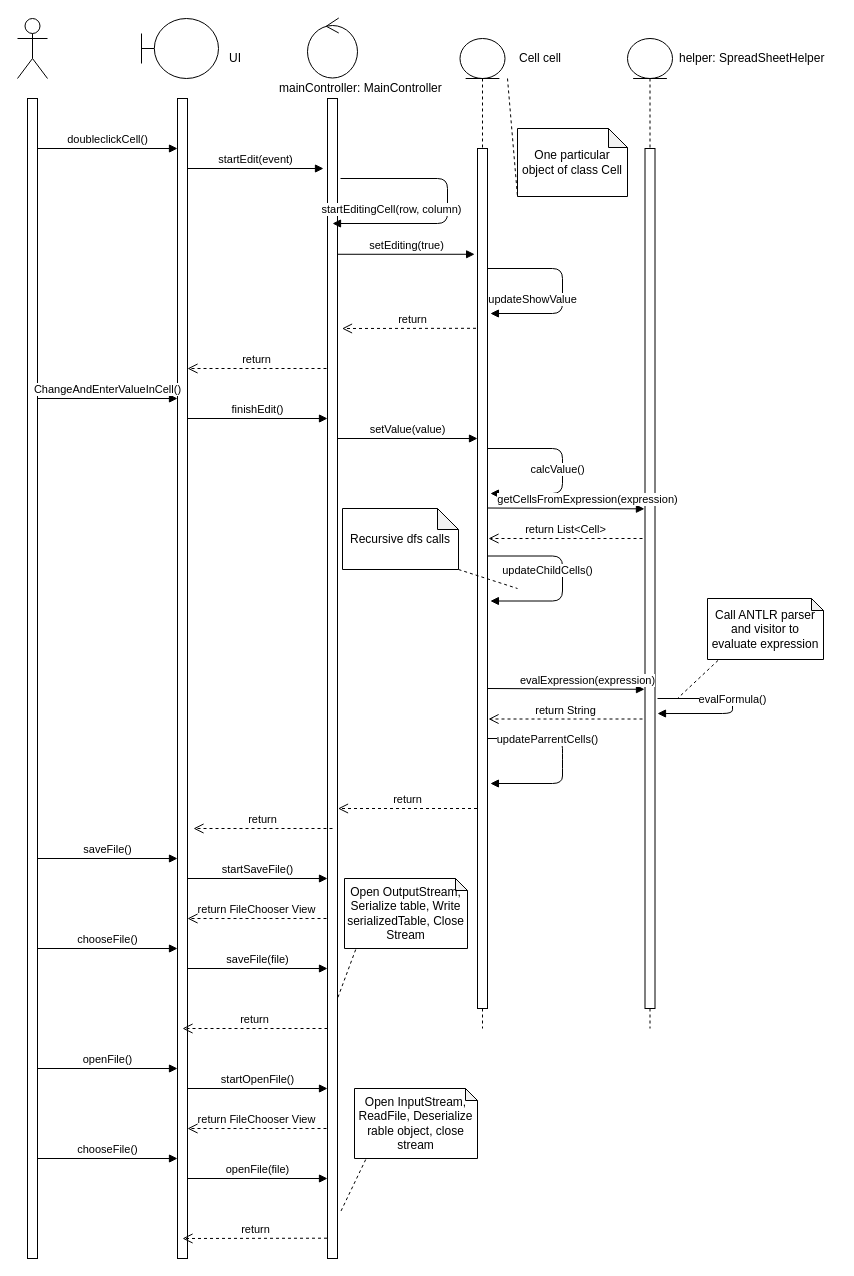
The diagram is 854 pixels wide and 1276 high, and some of its shapes have lost their labels. The shapes that lost their labels are listed below. From the top down, each one's centre as x and y in pixels, then its label:
At (x=32, y=48): "Actor".
At (x=179, y=48): "Boundary Object".
At (x=332, y=47): "Control Object".
